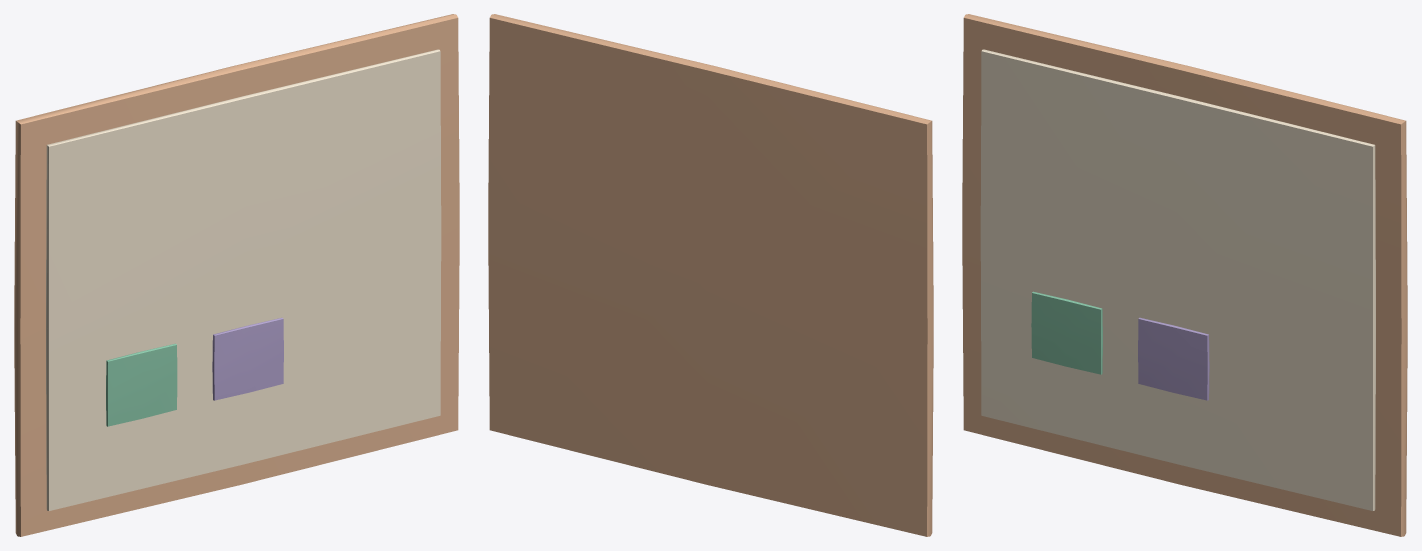
The model's file is framed-poster.glb.
The picture shows the model from 3 angles, left to right: view 1: azimuth 30°, elevation 25°; view 2: azimuth 150°, elevation 25°; view 3: azimuth 330°, elevation 25°; orthographic projection.
Parts seen in each view (by area): view 1: part (×4); view 2: part; view 3: part (×4).
Part boxes in pixels (bbox=[...]): part (×4): bbox=[14, 14, 459, 536]; part: bbox=[488, 14, 933, 536]; part (×4): bbox=[962, 14, 1407, 536].
Bounding box in the file's own units: 0.72 × 0.65 × 0.048.
1 material, 1 textured.
